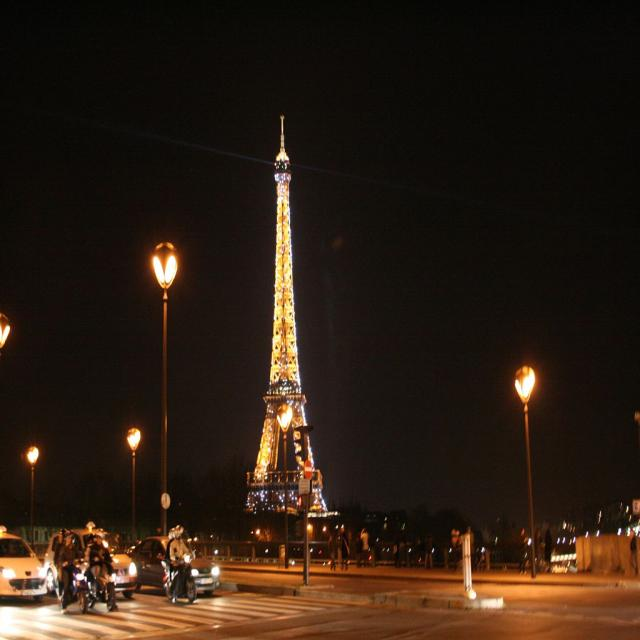Motorbike: (78, 559, 127, 624), (160, 546, 199, 603), (57, 566, 95, 610)
People: (50, 516, 77, 603), (84, 516, 114, 593), (171, 523, 197, 590), (334, 526, 360, 569), (541, 517, 560, 573)
car: (42, 527, 146, 623), (135, 525, 240, 615), (0, 516, 55, 609)
